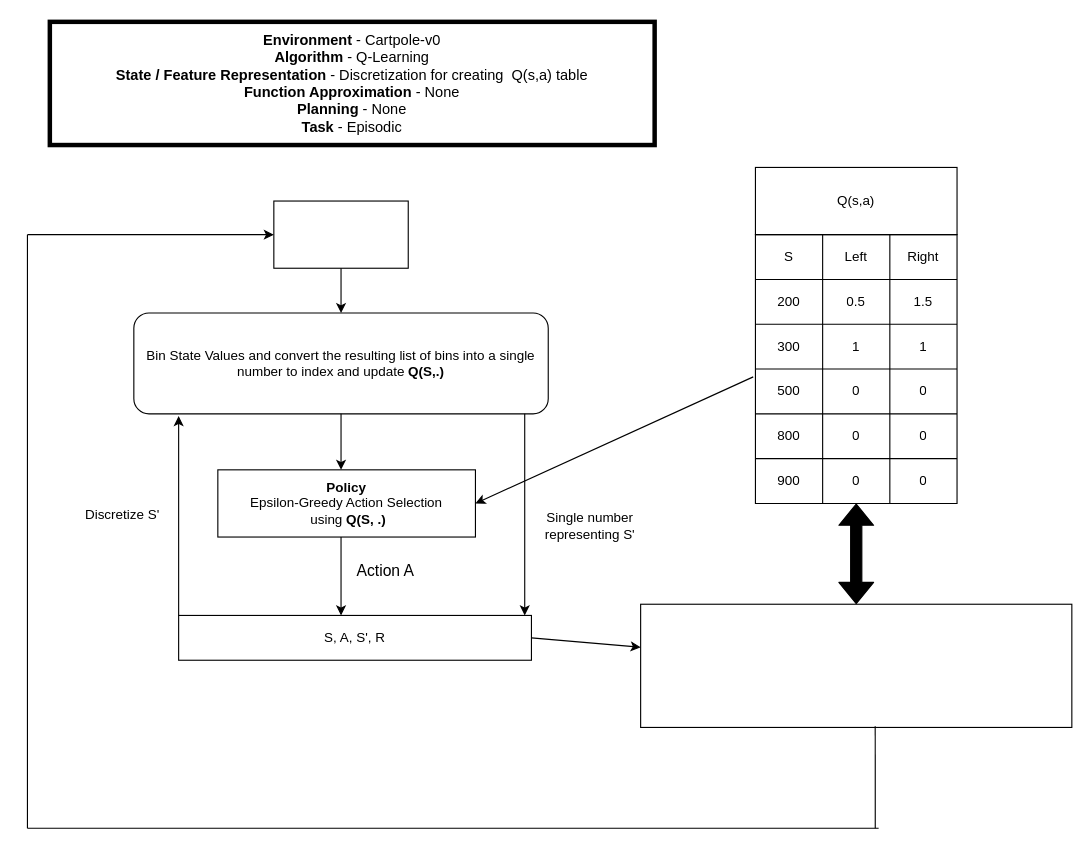
The diagram is 1092 pixels wide and 849 high, and some of its shapes have lost their labels. The shapes that lost their labels are listed below. From the top down, each one's centre as x and y in pixels, then its label:
At pixel 340 234: "State S (pos, cv, ang, tv)".
At pixel 856 665: "Q-Learning Update Q(S,A) += alpha*(R + max(Q(S', .)) - Q(S,A)) S' = S".
